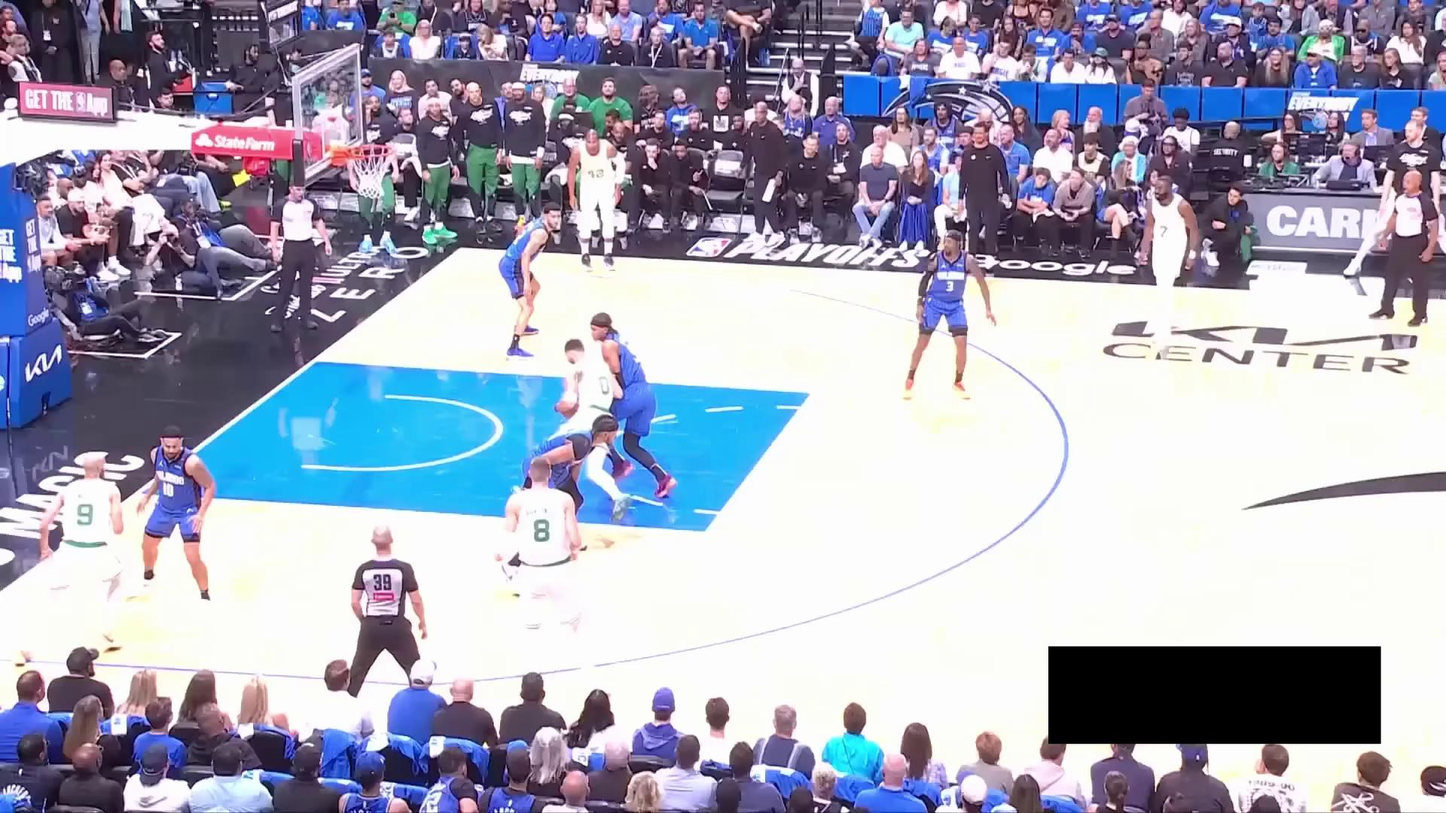ball: (558, 394, 580, 417)
number: (73, 501, 95, 528), (530, 517, 552, 542), (597, 374, 611, 396), (162, 481, 174, 497), (588, 168, 604, 179), (1159, 225, 1169, 238), (946, 281, 954, 292)
player: (11, 449, 125, 666), (497, 455, 599, 690), (497, 411, 621, 582), (588, 307, 681, 502), (901, 227, 999, 401), (134, 422, 219, 618), (497, 200, 566, 361), (1140, 171, 1200, 352), (564, 123, 631, 273)
player-in-possession: (545, 323, 634, 528)
referee: (341, 520, 431, 693), (1365, 168, 1443, 327), (267, 176, 333, 335)
rim: (346, 143, 396, 160)
